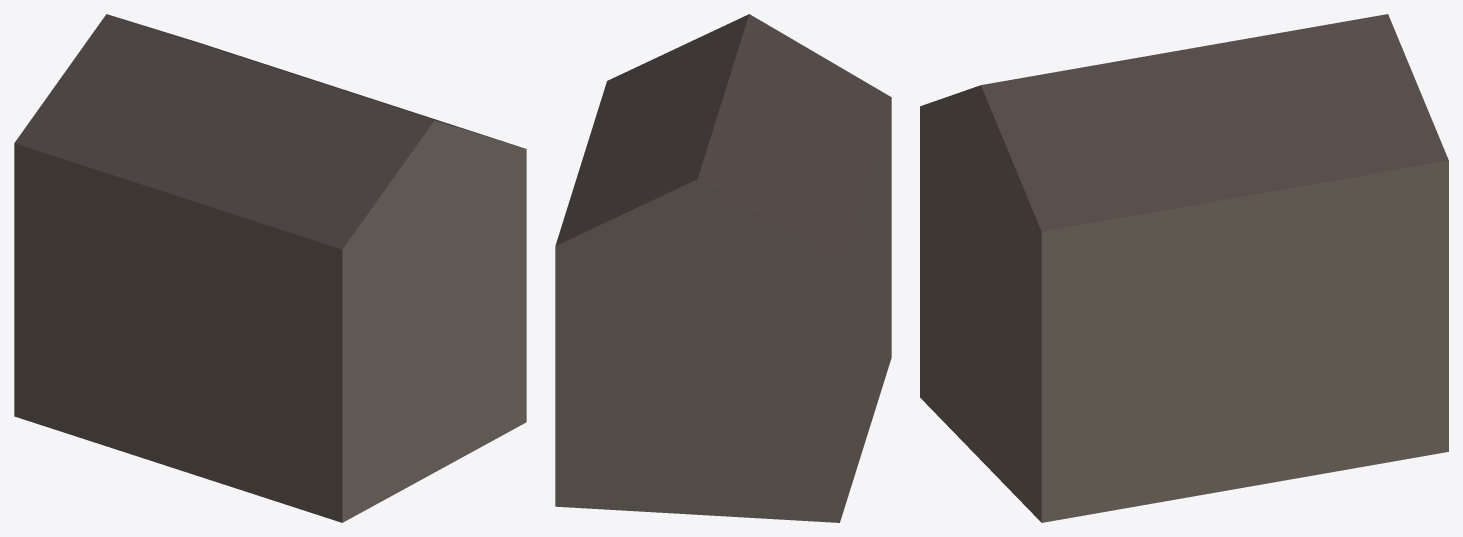
3 renders of one model, left to right at view 1: azimuth 30°, elevation 25°; view 2: azimuth 150°, elevation 25°; view 3: azimuth 270°, elevation 25°, orthographic. The views are drawn at different scales.
Parts seen in each view (by area): view 1: HP-w776801029; view 2: HP-w776801029; view 3: HP-w776801029.
Part boxes in pixels (x1,y1,x2,y2): HP-w776801029: [14, 14, 526, 522]; HP-w776801029: [555, 14, 891, 522]; HP-w776801029: [920, 14, 1448, 522].
Size of the model in its own units: 8.69 by 7.73 by 9.88.
